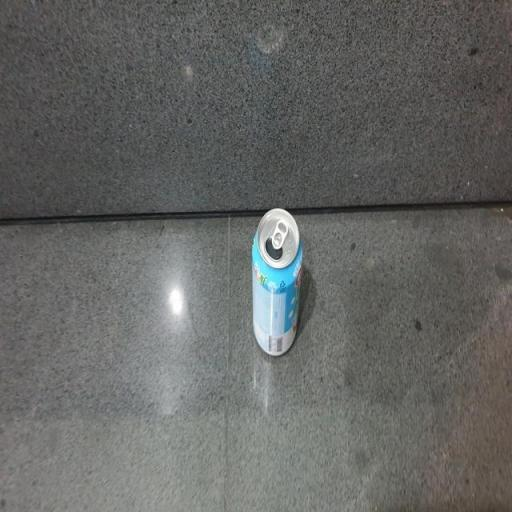metal: (212, 199, 320, 367)
